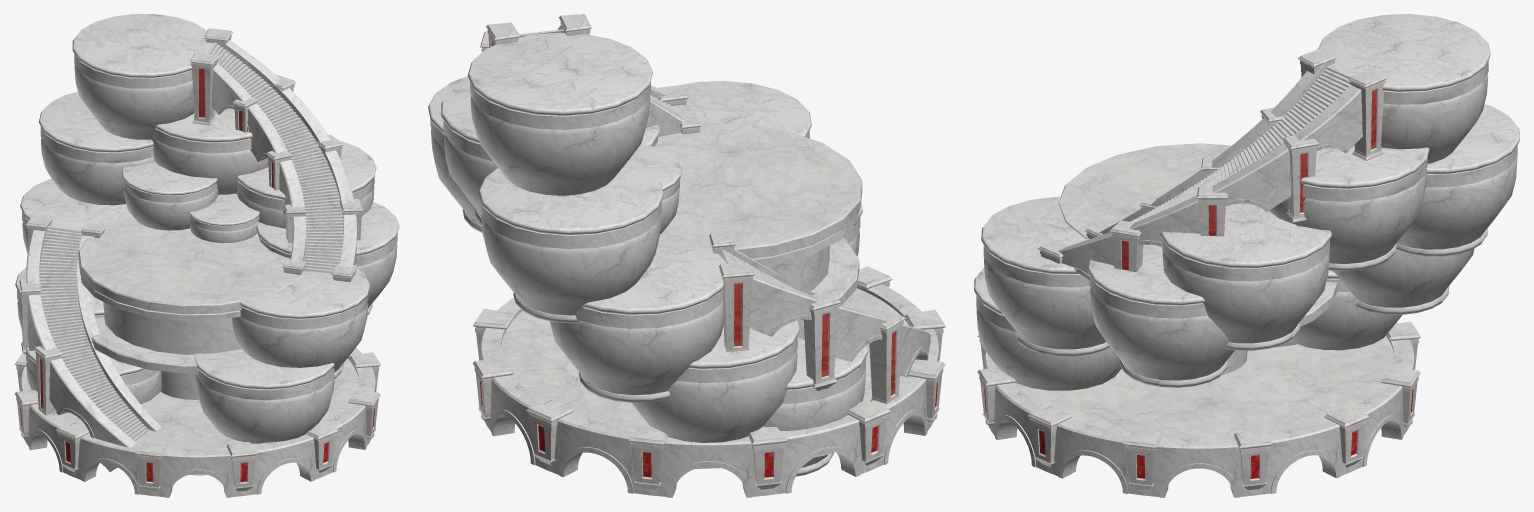
File: BgMD_Ruins_Area2_Set.fbx
The picture shows the model from 3 angles, left to right: view 1: azimuth 30°, elevation 25°; view 2: azimuth 150°, elevation 25°; view 3: azimuth 270°, elevation 25°; orthographic projection. The views are drawn at different scales.
Visible parts, largest first — view 1: SM_Stage_stage2, SM_Stairs_stairs (×2), SM_Stairs_stairsED (×2), SM_Landing_landing4, SM_Landing_landing9, SM_Landing_landing10, SM_Landing_landing3, SM_Landing_landing5, SM_Landing_landing6, SM_Stage_stage1, SM_Landing_landing8, SM_Landing_landing7 (+24 smaller); view 2: SM_Stage_stage2, SM_Landing_landing4, SM_Landing_landing3, SM_Landing_landing2, SM_Landing_landing1, SM_Stage_stage1, SM_Stairs_stairs, SM_Landing_landing12, SM_Landing_landing9, SM_Stage_shell6, SM_Landing_landing5, SM_Stage_shell5 (+22 smaller); view 3: SM_Stage_stage1, SM_Landing_landing7, SM_Landing_landing4, SM_Landing_landing9, SM_Landing_landing8, SM_Landing_landing5, SM_Stairs_stairs, SM_Landing_landing3, SM_Stage_stage2, SM_Landing_landing10, SM_Landing_landing2, SM_Stairs_stairsED (+19 smaller).
Part boxes in pixels (x1=…): SM_Stage_stage2: x1=78, y1=215, x2=302, y2=373; SM_Stairs_stairs (×2): x1=26, y1=40, x2=330, y2=351; SM_Stairs_stairsED (×2): x1=49, y1=146, x2=357, y2=471; SM_Landing_landing4: x1=72, y1=14, x2=212, y2=139; SM_Landing_landing9: x1=232, y1=268, x2=370, y2=378; SM_Landing_landing10: x1=194, y1=349, x2=334, y2=443; SM_Landing_landing3: x1=39, y1=92, x2=154, y2=205; SM_Landing_landing5: x1=151, y1=108, x2=268, y2=194; SM_Landing_landing6: x1=122, y1=162, x2=218, y2=230; SM_Stage_stage1: x1=59, y1=358, x2=358, y2=475; SM_Landing_landing8: x1=256, y1=202, x2=399, y2=315; SM_Landing_landing7: x1=236, y1=141, x2=376, y2=228; SM_Stage_stage2: x1=654, y1=122, x2=862, y2=305; SM_Landing_landing4: x1=468, y1=32, x2=652, y2=195; SM_Landing_landing3: x1=478, y1=160, x2=663, y2=323; SM_Landing_landing2: x1=550, y1=245, x2=726, y2=402; SM_Landing_landing1: x1=631, y1=320, x2=799, y2=442; SM_Stage_stage1: x1=501, y1=288, x2=908, y2=468; SM_Stairs_stairs: x1=720, y1=246, x2=887, y2=362; SM_Landing_landing12: x1=763, y1=337, x2=868, y2=476; SM_Landing_landing9: x1=679, y1=81, x2=811, y2=138; SM_Stage_shell6: x1=547, y1=413, x2=650, y2=495; SM_Landing_landing5: x1=441, y1=79, x2=498, y2=224; SM_Stage_shell5: x1=650, y1=436, x2=768, y2=497; SM_Stage_stage1: x1=1014, y1=336, x2=1393, y2=438; SM_Landing_landing7: x1=1160, y1=203, x2=1331, y2=350; SM_Landing_landing4: x1=1318, y1=14, x2=1490, y2=163; SM_Landing_landing9: x1=981, y1=196, x2=1109, y2=356; SM_Landing_landing8: x1=1087, y1=244, x2=1234, y2=387; SM_Landing_landing5: x1=1269, y1=145, x2=1429, y2=271; SM_Stairs_stairs: x1=1211, y1=62, x2=1362, y2=212; SM_Landing_landing3: x1=1396, y1=104, x2=1519, y2=256; SM_Stage_stage2: x1=1058, y1=143, x2=1337, y2=326; SM_Landing_landing10: x1=974, y1=267, x2=1121, y2=390; SM_Landing_landing2: x1=1332, y1=248, x2=1474, y2=314; SM_Stairs_stairsED: x1=1058, y1=170, x2=1214, y2=280.
Size of the model in its own units: 3889 by 3442 by 4378.
